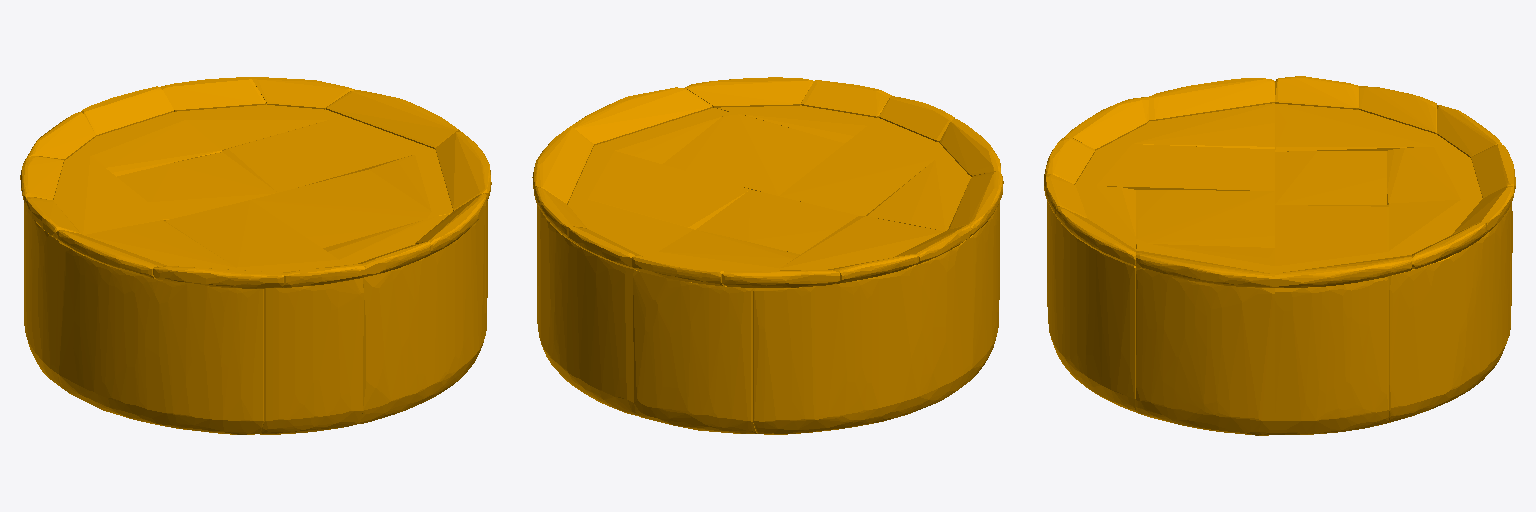
robot.urdf — 007_tuna_fish_can:
<?xml version="1.0" encoding="UTF-8"?>
<robot name="007_tuna_fish_can">
	<link name="base">
		<collision>
			<geometry>
				<mesh filename="..\vhacd\007_tuna_fish_can_vhacd.obj" scale="1.0 1.0 1.0"/>
			</geometry>
			<origin xyz="0 0 0"/>
			<contact_coefficients mu="0.24" />
		</collision>
		<visual>
			<geometry>
				<mesh filename="..\vhacd\007_tuna_fish_can_vhacd.obj" scale="1.0 1.0 1.0"/>
			</geometry>
			<origin xyz="0 0 0"/>
		</visual>
		<inertial>
			<mass value="0"/>
			<inertia ixx="0.0" ixy="0.0" ixz="0.0" iyy="0.0" iyz="0.0" izz="0.0" />
			<origin xyz="-0.025996325329804313 -0.022140359542700345 0.012989508206410929"/>
		</inertial>
	</link>
</robot>

--- Facts derived from the render (not from the file) ---
3 views of the same robot in one strip: view 1: azimuth 30°, elevation 25°; view 2: azimuth 150°, elevation 25°; view 3: azimuth 270°, elevation 25° (orthographic).
Robot: 007_tuna_fish_can — 1 links, 0 joints (none); root link base; default pose: every joint at zero.
Links seen in each view (by area): view 1: base; view 2: base; view 3: base.
Link boxes in pixels (x1,y1,x2,y2): base: (20, 77, 491, 434); base: (532, 77, 1003, 434); base: (1044, 76, 1515, 435).
Bounding box of the posed robot: 0.0858 × 0.0858 × 0.0339 m (x, y, z).
Meshes: 1 distinct files referenced, 1 mesh visuals loaded (1 OBJ).